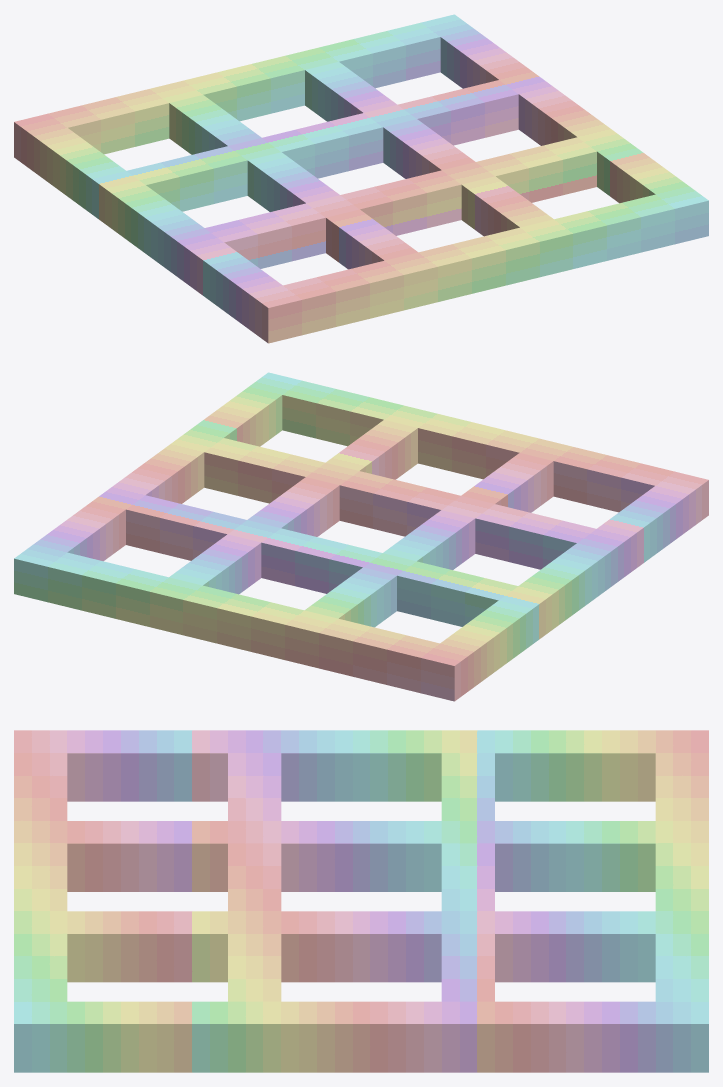
The model's file is conjured_craftingtable.obj.
3 views of the same model, one above another, from view 1: azimuth 30°, elevation 25°; view 2: azimuth 150°, elevation 25°; view 3: azimuth 270°, elevation 25° (orthographic). The views are drawn at different scales.
Parts seen in each view (by area): view 1: CRAFTING_TABLE_Cube.000; view 2: CRAFTING_TABLE_Cube.000; view 3: CRAFTING_TABLE_Cube.000.
Part boxes in pixels (box(x1,y1,x2,y2)): CRAFTING_TABLE_Cube.000: box(14, 14, 708, 343); CRAFTING_TABLE_Cube.000: box(14, 372, 708, 701); CRAFTING_TABLE_Cube.000: box(14, 730, 708, 1072).
Size of the model in its own units: 0.8125 by 0.0625 by 0.8125.
